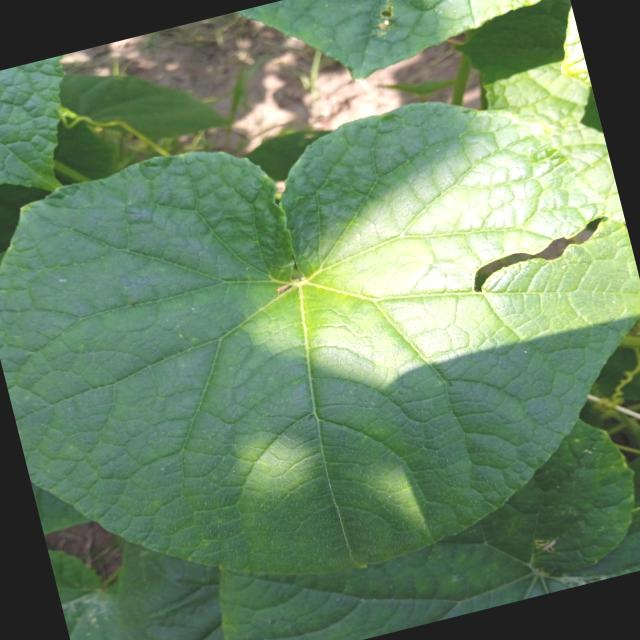cucumber_healthy: (0, 48, 640, 640), (188, 388, 640, 640), (223, 0, 578, 115), (0, 54, 92, 204)
